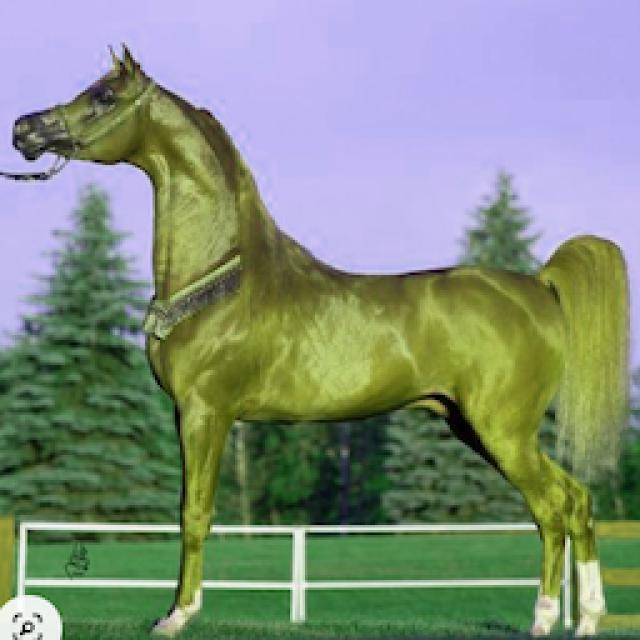Horse: (5, 38, 638, 638)
